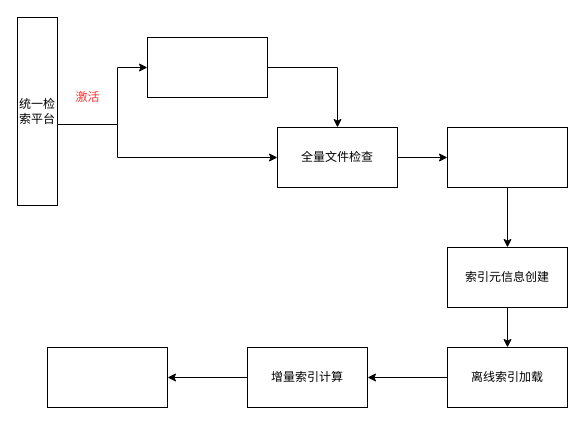
This 585x425 diagram has some shape labels left out. Each missing label, with the box of its shape:
dts增量/全量: (146, 36, 268, 98)
全量索引计算: (446, 126, 568, 188)
增量索引同步成功: (46, 346, 168, 408)
